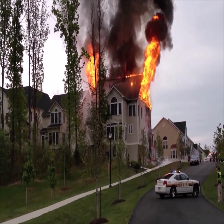fire_h: (139, 36, 161, 109), (87, 40, 101, 97)
fire_l: (126, 73, 142, 78), (130, 80, 134, 87), (153, 14, 158, 18)
